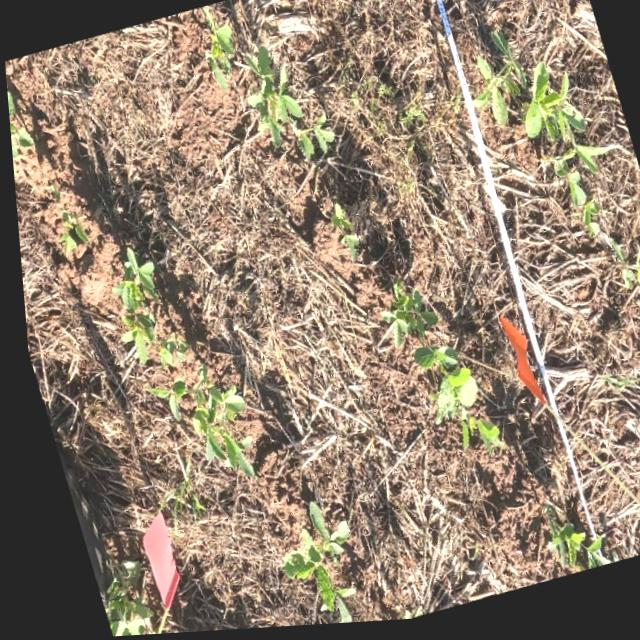grassy_weed: (151, 463, 196, 529), (590, 383, 632, 399)
soy_plant: (471, 38, 610, 242), (142, 368, 245, 478), (244, 50, 331, 163), (408, 351, 493, 457), (273, 505, 344, 627), (108, 249, 180, 369), (92, 561, 142, 637), (538, 523, 601, 577), (377, 286, 430, 350), (202, 10, 233, 91), (604, 246, 640, 307), (326, 207, 353, 264), (57, 210, 84, 255)
